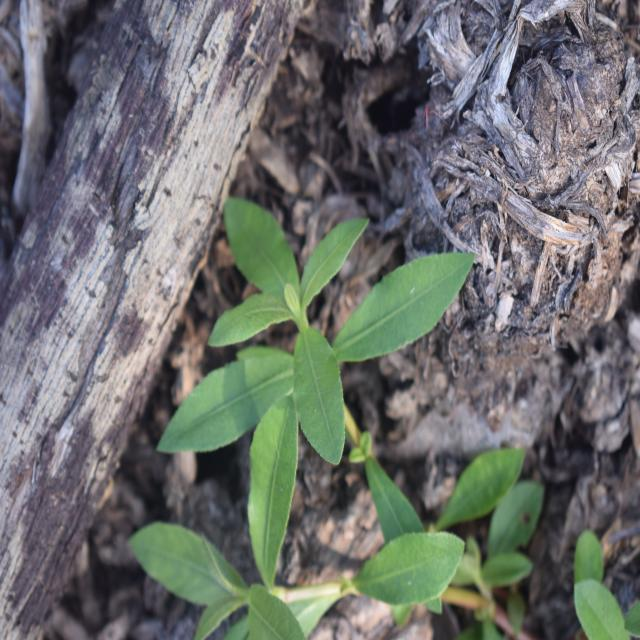Alligatorweed: (171, 184, 438, 518)
